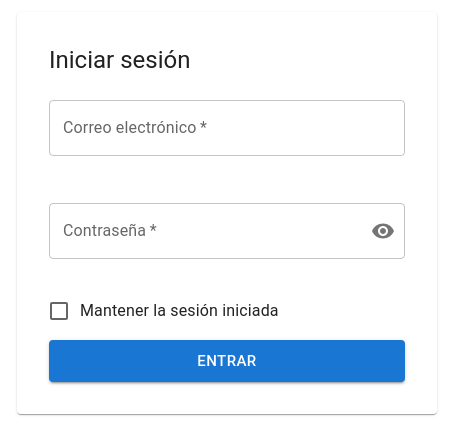
Test: LoginPage › FE-LOG-03 correo inválido muestra mensaje de formato
In the field labelled "Correo electrónico *": (227, 128) [49,100,405,156], type "no-es-correo"
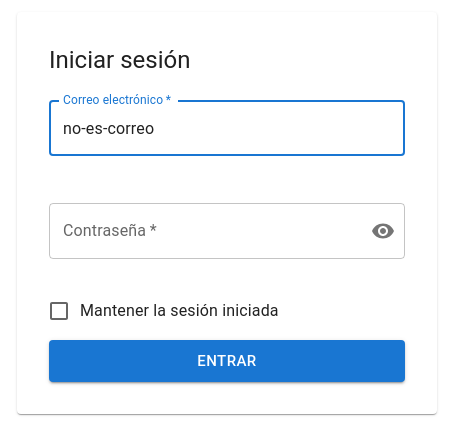
Click the button "Entrar": (227, 361) [49,340,405,382]
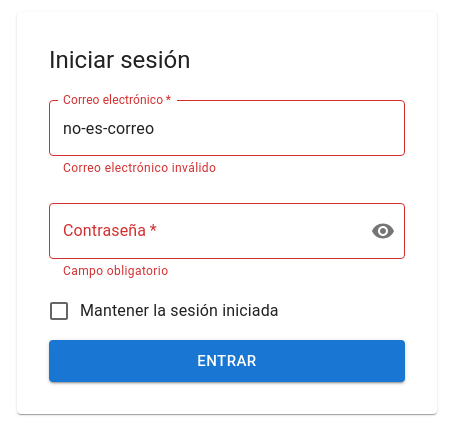
Expected: the text "Correo electrónico inválido" is shown, [63,161,216,175]
